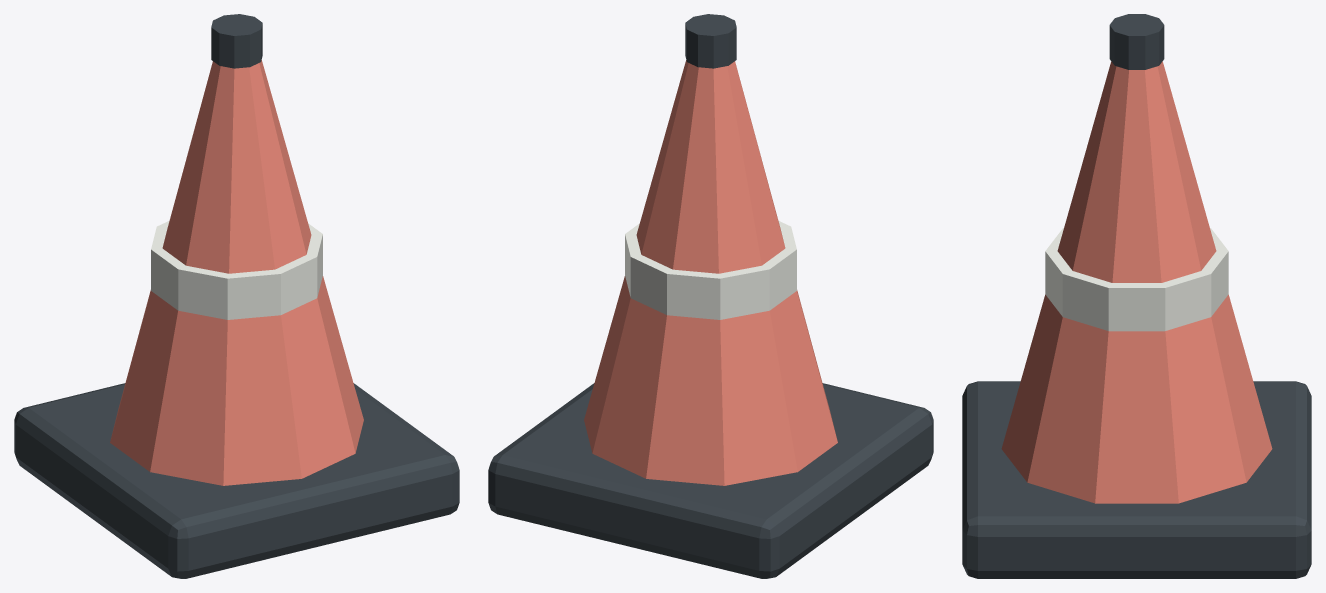
File: RoadCone.fbx
3 renders of one model, left to right at view 1: azimuth 30°, elevation 25°; view 2: azimuth 150°, elevation 25°; view 3: azimuth 270°, elevation 25°, orthographic. The views are drawn at different scales.
Parts seen in each view (by area): view 1: RoadCone; view 2: RoadCone; view 3: RoadCone.
Part boxes in pixels (bbox=[...]): RoadCone: bbox=[14, 14, 459, 578]; RoadCone: bbox=[488, 14, 933, 578]; RoadCone: bbox=[962, 14, 1311, 578].
Bounding box in the file's own units: 56 × 86 × 56.
